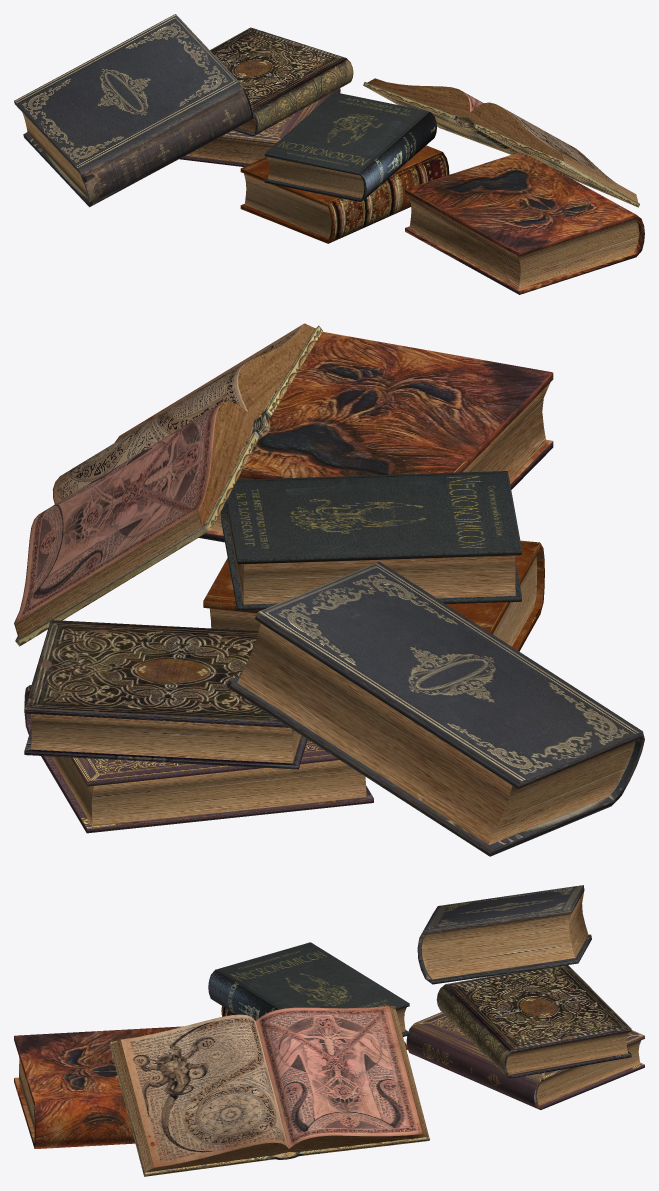
3 renders of one model, top to bottom at view 1: azimuth 30°, elevation 25°; view 2: azimuth 150°, elevation 25°; view 3: azimuth 270°, elevation 25°, orthographic. The views are drawn at different scales.
Parts seen in each view (by area): view 1: book5.001, book2, book3, book4, BezierCurve, book5, book1; view 2: book5.001, BezierCurve, book2, book3, book4, book1, book5; view 3: BezierCurve, book4, book5.001, book2, book3, book1.
Boxes of the visible parts, x1,y1,x2,y2 form: book5.001: (14,14,253,207); book2: (405,152,644,294); book3: (264,92,436,201); book4: (210,27,353,136); BezierCurve: (363,78,639,207); book5: (240,145,449,243); book1: (179,88,340,166); book5.001: (226,561,644,856); BezierCurve: (14,323,322,646); book2: (198,332,553,542); book3: (221,471,521,610); book4: (24,620,307,769); book1: (24,685,373,833); book5: (203,540,544,651); BezierCurve: (109,1005,429,1176); book4: (436,965,631,1078); book5.001: (417,885,591,984); book2: (14,1026,183,1148); book3: (208,942,409,1036); book1: (406,1012,644,1109).
Bounding box in the file's own units: 960 × 251 × 1131.
17 materials, 17 textured.
